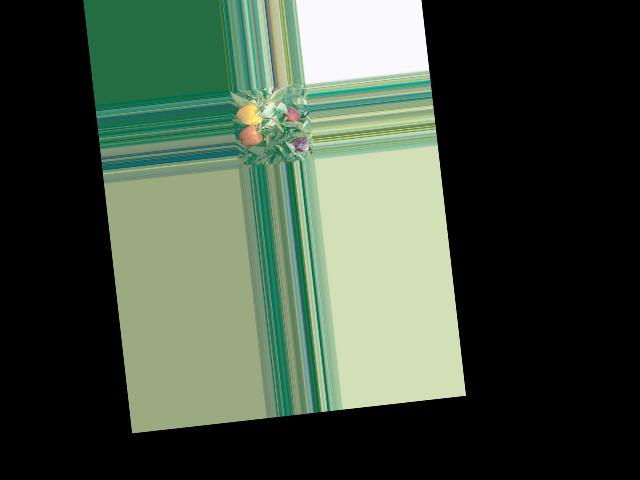bell_pepper: (236, 102, 264, 132)
